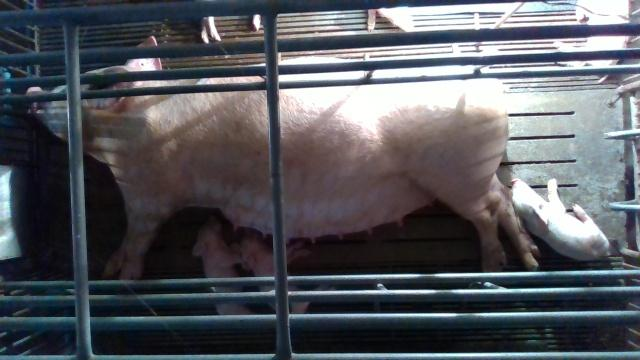piglet: (238, 228, 336, 313), (512, 178, 610, 261), (191, 215, 254, 315), (554, 0, 629, 66)
sow-sleep-lactate: (28, 37, 541, 281)
